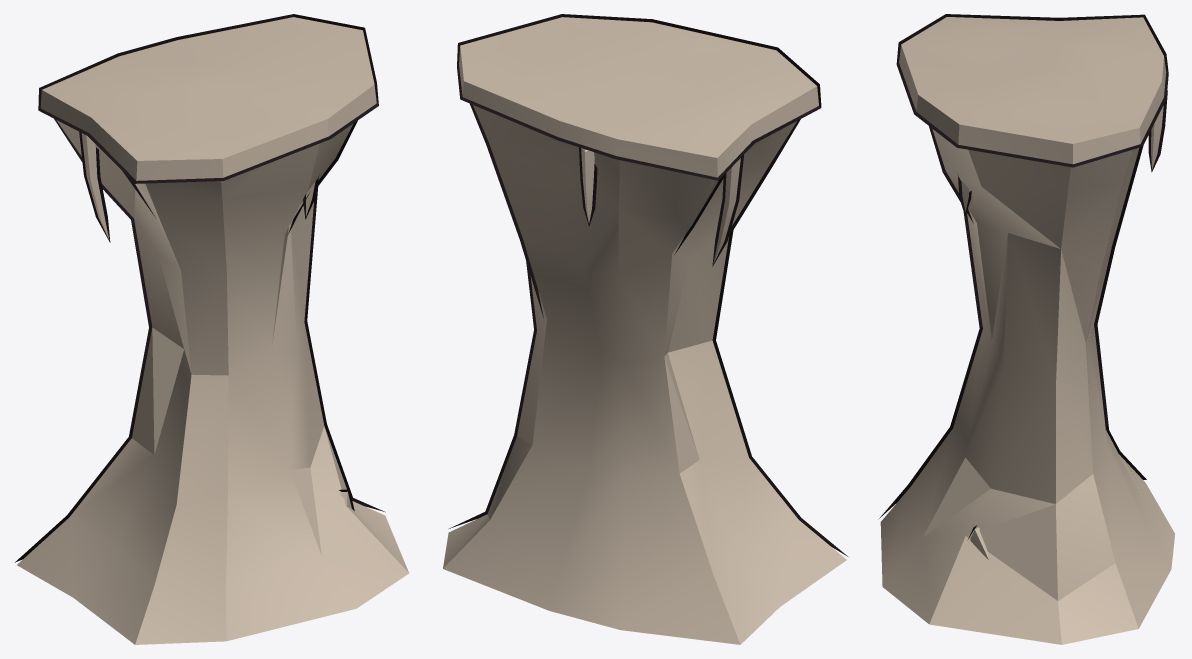
Rendered from SM_Web_Pillar_01.fbx.
3 views of the same model, side by side, from view 1: azimuth 30°, elevation 25°; view 2: azimuth 150°, elevation 25°; view 3: azimuth 270°, elevation 25° (orthographic). The views are drawn at different scales.
Visible parts, largest first — view 1: SM_Web_Pillar_01; view 2: SM_Web_Pillar_01; view 3: SM_Web_Pillar_01.
Boxes of the visible parts, x1,y1,x2,y2 form: SM_Web_Pillar_01: [15, 14, 409, 644]; SM_Web_Pillar_01: [443, 14, 847, 644]; SM_Web_Pillar_01: [878, 14, 1175, 644].
Size of the model in its own units: 22.9 by 32.25 by 17.72.
